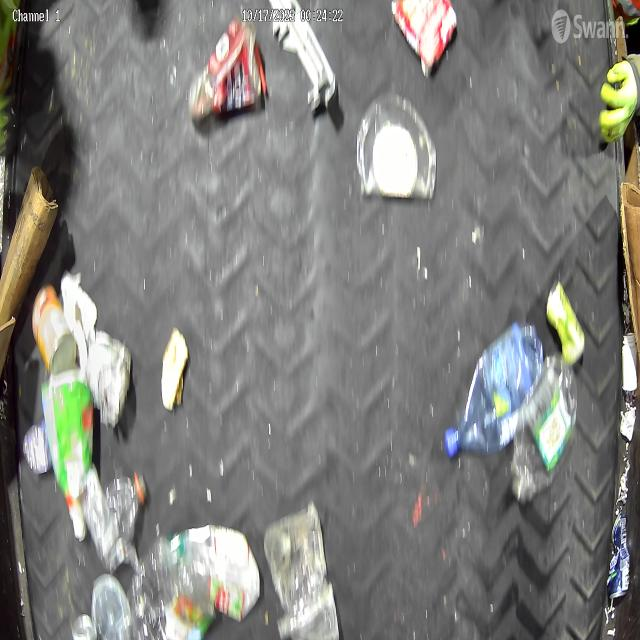can: (32, 286, 76, 375), (544, 280, 586, 364), (607, 510, 631, 600)
plastic_bottle: (444, 320, 545, 458), (510, 357, 579, 501), (90, 475, 148, 567)
